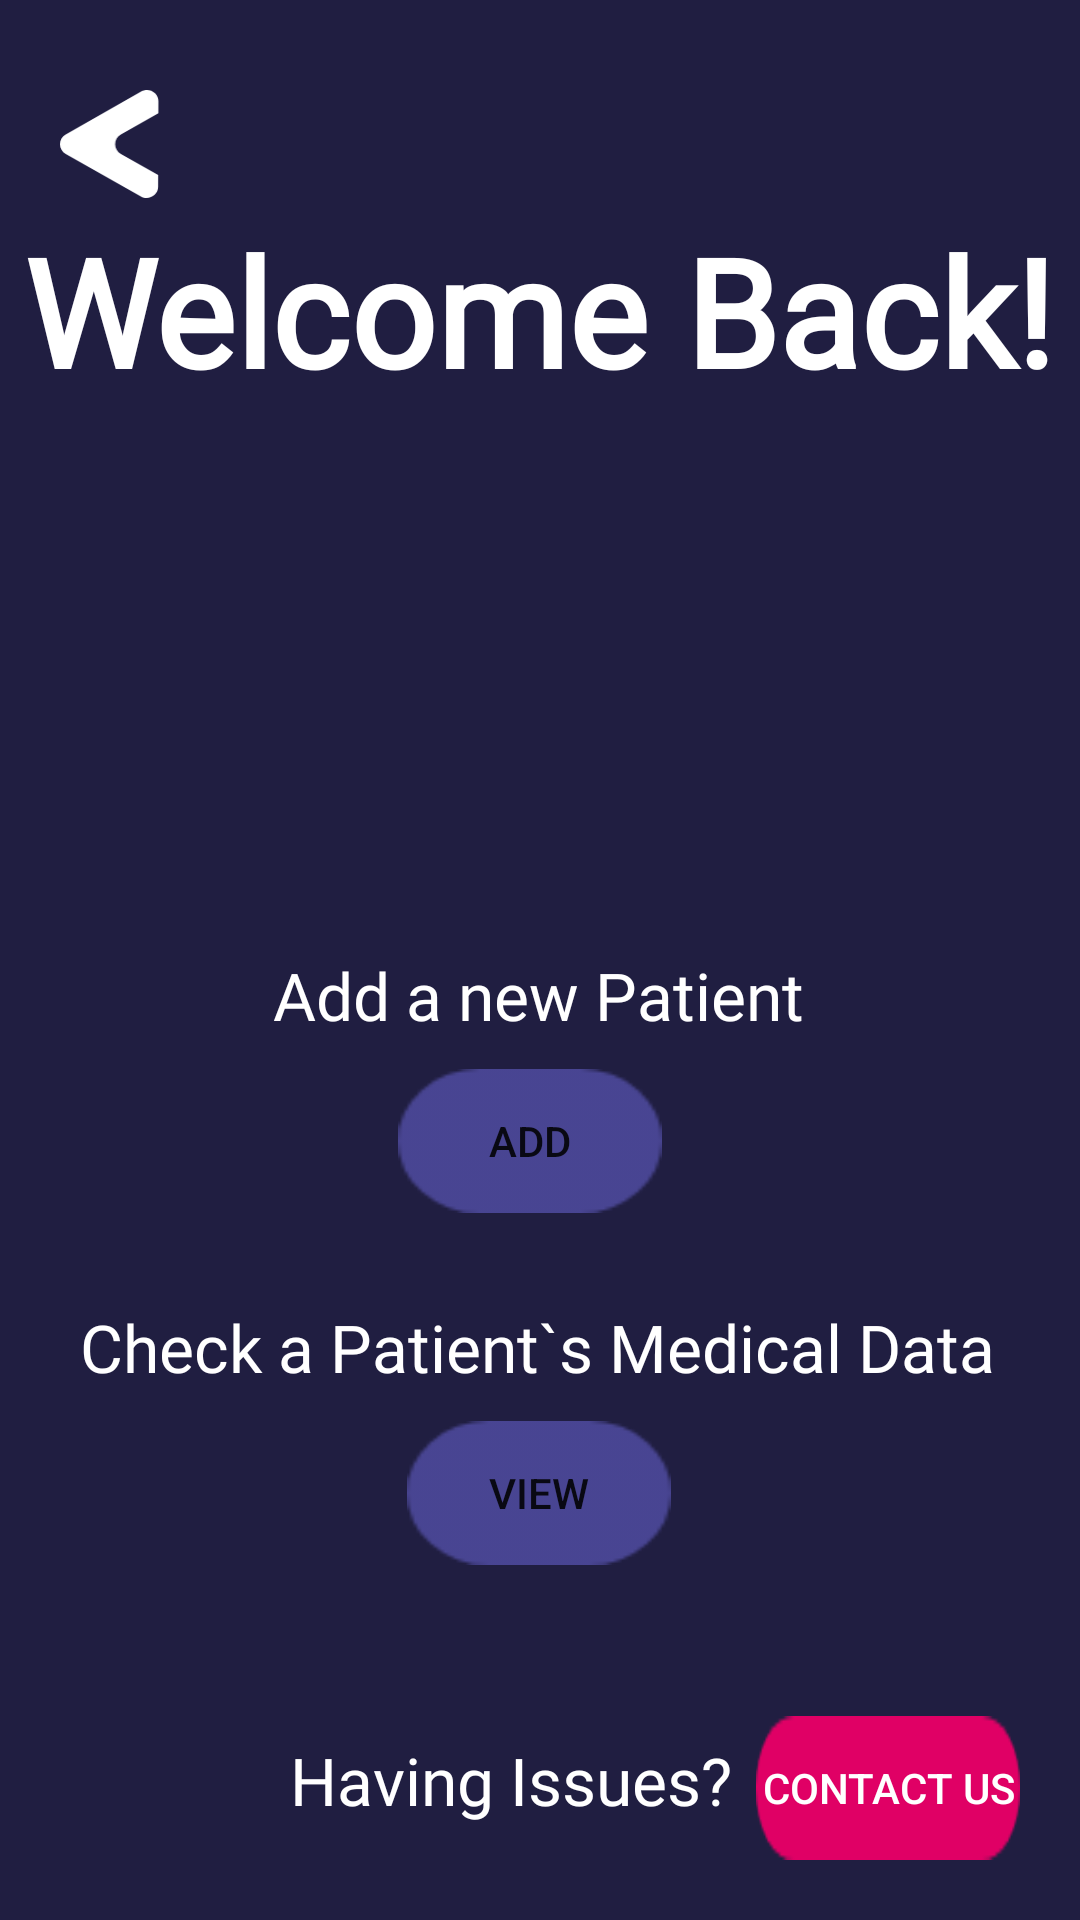

Point at icon controls on the screen. Image size 1080 × 1920, points as (x,y).
backbtn: (109,144)
